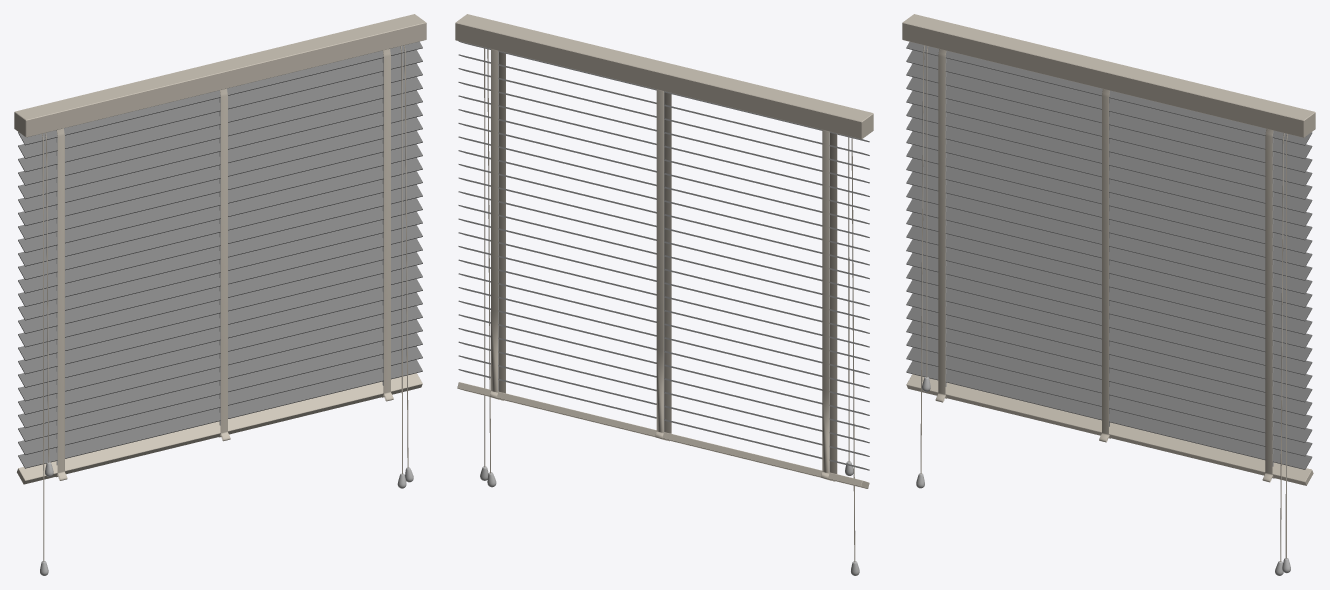
File: Blinds_2.fbx
3 renders of one model, left to right at view 1: azimuth 30°, elevation 25°; view 2: azimuth 150°, elevation 25°; view 3: azimuth 330°, elevation 25°, orthographic.
Parts seen in each view (by area): view 1: Blinds_2; view 2: Blinds_2; view 3: Blinds_2.
Boxes of the visible parts, <box> form: Blinds_2: <box>14,14,426,575</box>; Blinds_2: <box>455,14,873,575</box>; Blinds_2: <box>902,14,1315,575</box>.
Bounding box in the file's own units: 136 × 149 × 8.22.
